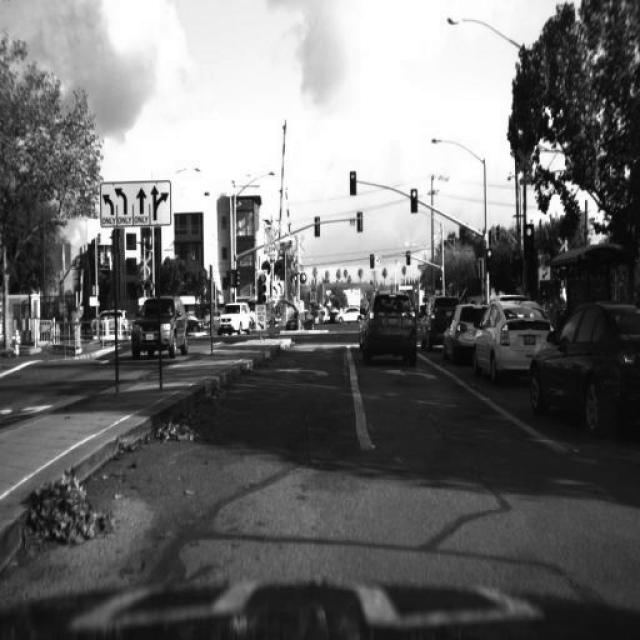semaforo: (523, 224, 533, 262), (411, 188, 418, 214), (349, 172, 356, 196)
